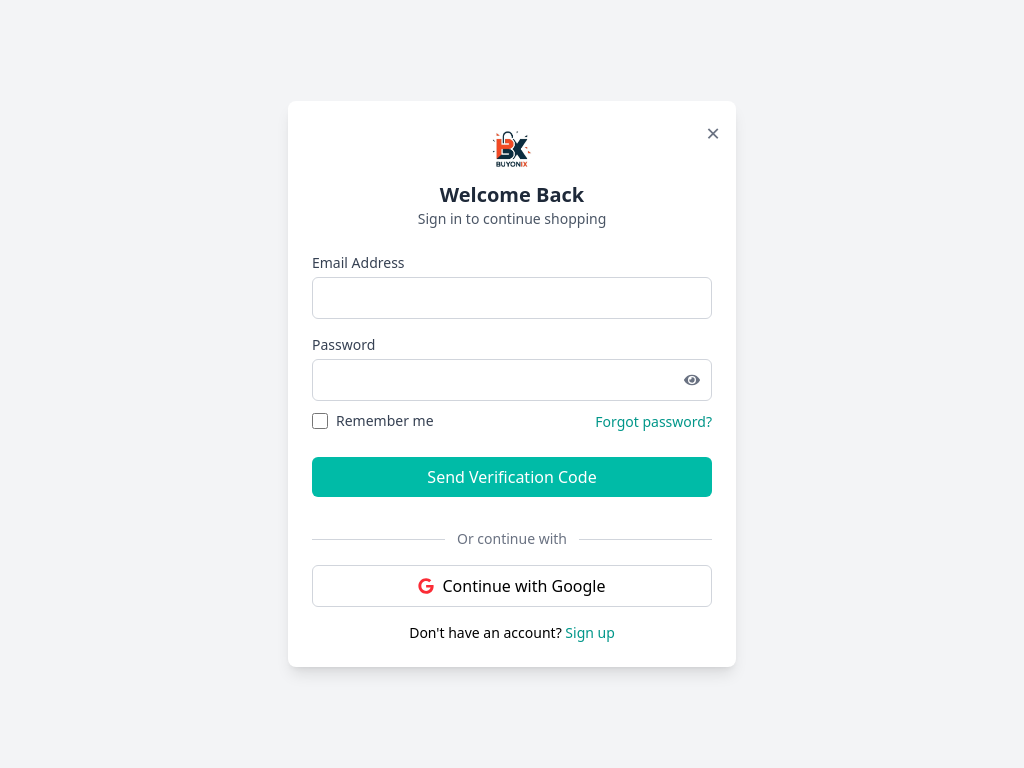
Scenario: Authentication Flow Integration Tests › Login Flow › should handle network failure gracefully during login
Type "user@example.com" into the field labelled "Email Address".
click(512, 298); type("user@example.com")  # box [312,277,712,319]
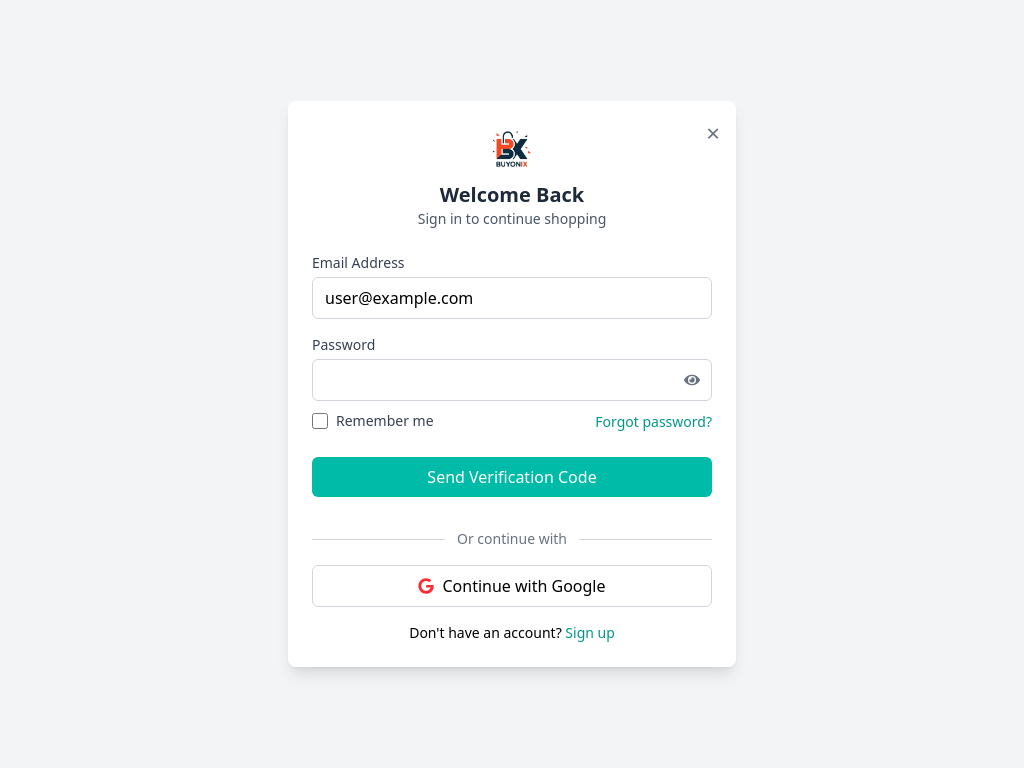
Type "pass" into the password field labelled "Password".
click(512, 380); type("pass")  # box [312,359,712,401]
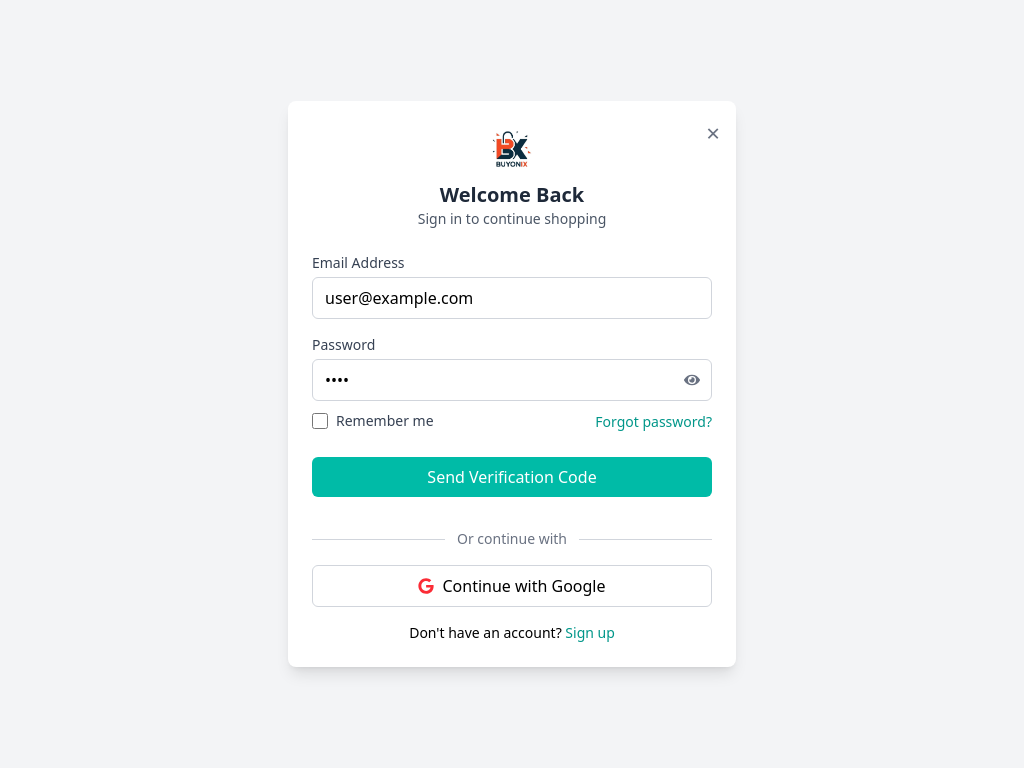
Click the button "Send Verification Code".
click(512, 477)  # box [312,457,712,497]
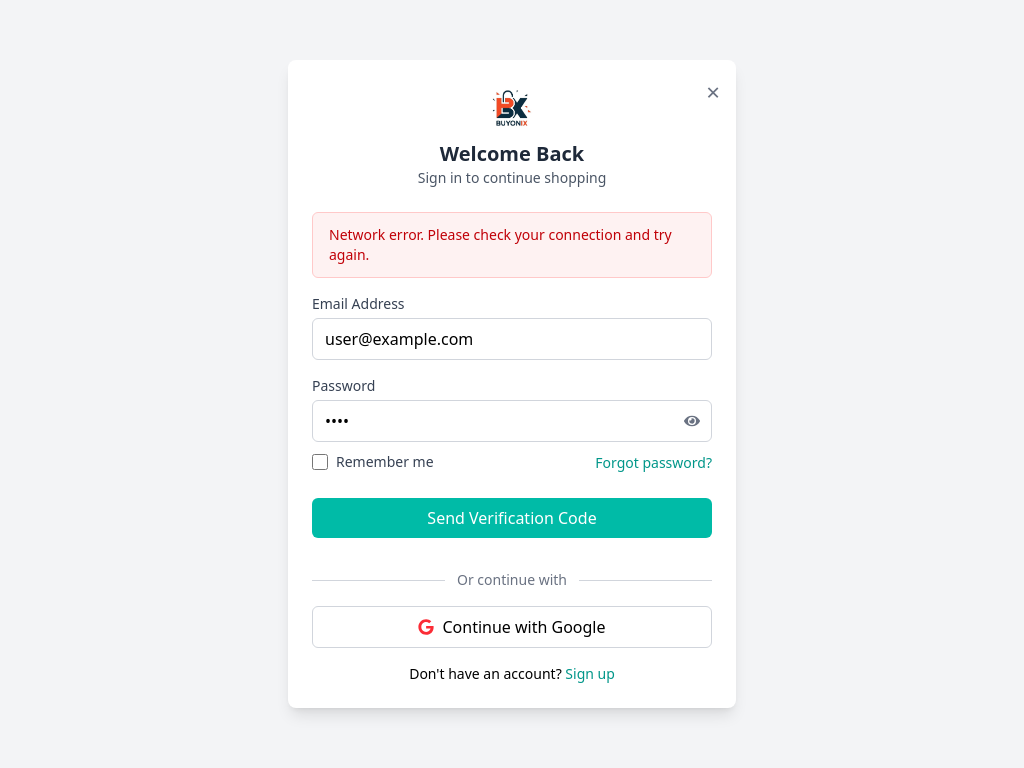
expect the text "Network error. Please check your connection and try again." is shown: met, box [312,212,712,278]
